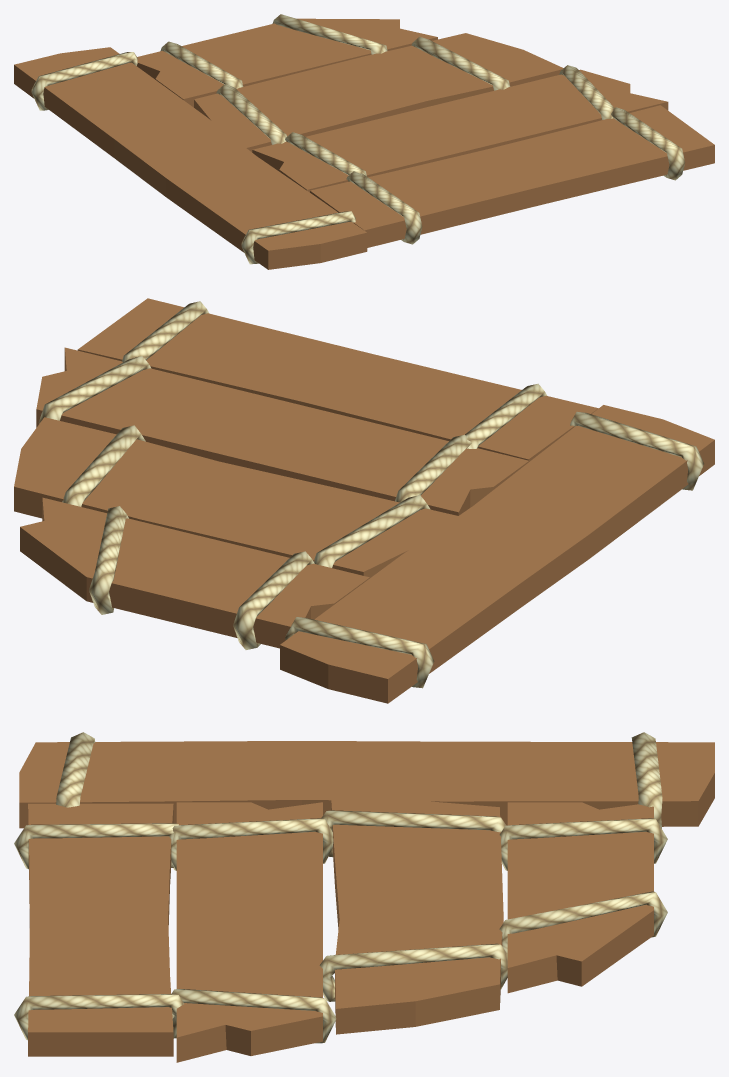
File: H_UnderRoof_corner.fbx
3 views of the same model, one above another, from view 1: azimuth 30°, elevation 25°; view 2: azimuth 150°, elevation 25°; view 3: azimuth 270°, elevation 25° (orthographic). The views are drawn at different scales.
Visible parts, largest first — view 1: H_UnderRoof; view 2: H_UnderRoof; view 3: H_UnderRoof.
Boxes of the visible parts, x1,y1,x2,y2 form: H_UnderRoof: (14,14,714,269); H_UnderRoof: (14,298,714,703); H_UnderRoof: (14,732,714,1062).
Size of the model in its own units: 252 by 17.56 by 248.
